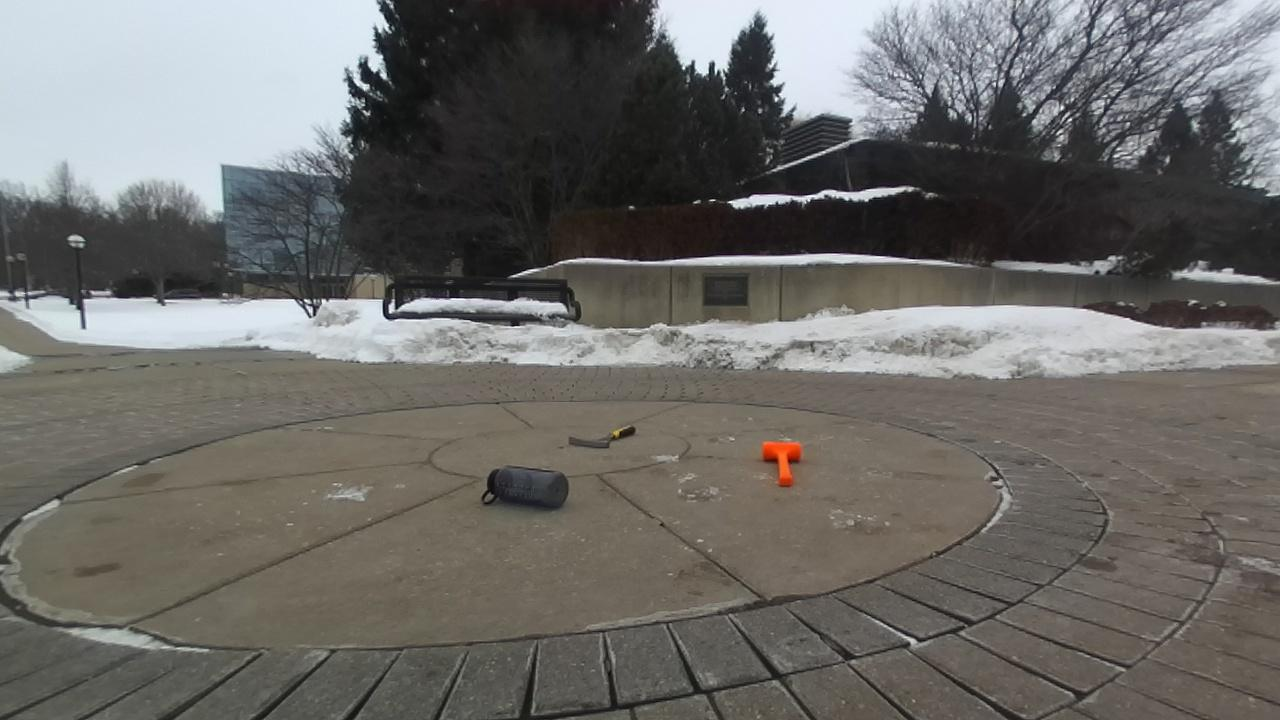bottle: (482, 466, 568, 508)
mallet: (763, 442, 801, 486)
pick: (570, 425, 635, 448)
